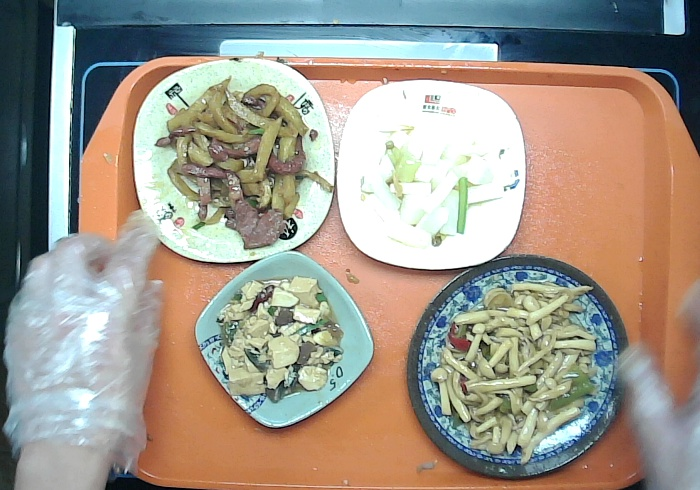NLDX-Bai_Se_Xiao_Fang_Die: (336, 80, 527, 271)
NLDX-Fu_Zi_Fang_Die: (131, 58, 334, 261)
NLDX-Qing_Hua_Xiao_Fang_Die: (193, 249, 376, 428)
NLDX-Qing_Hua_Yuan_Die: (407, 256, 629, 478)
